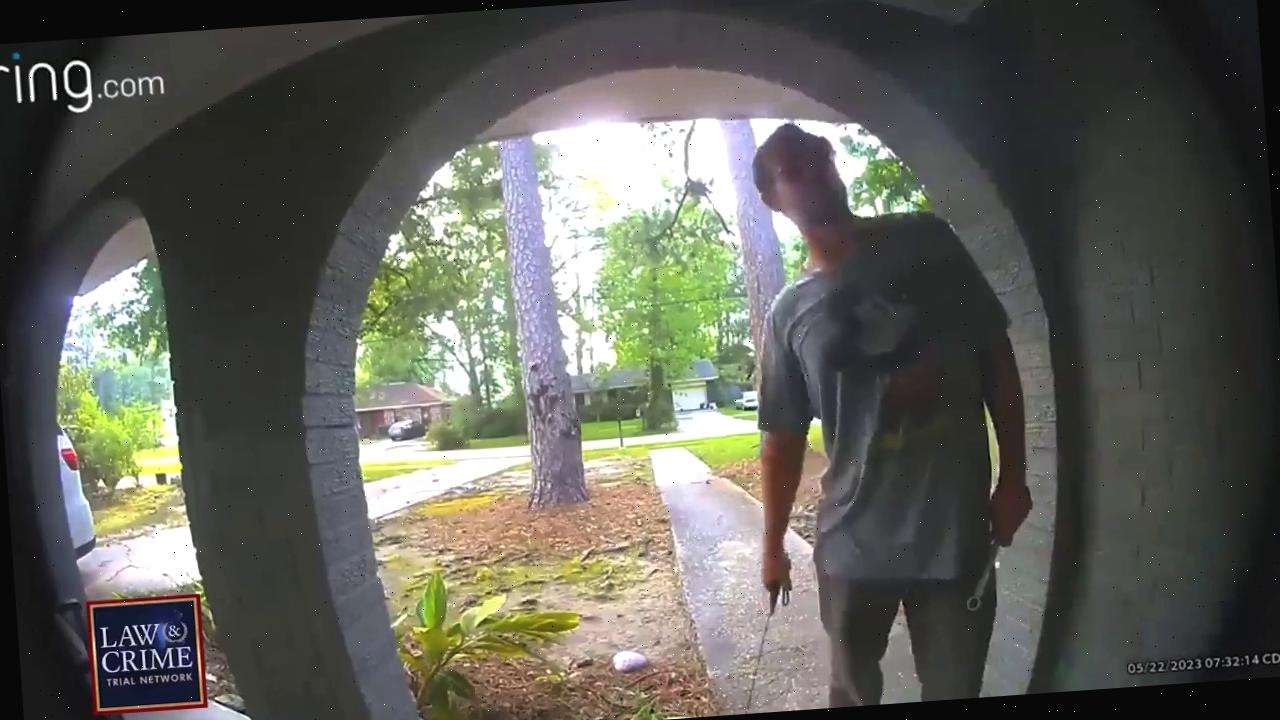suspicion: (669, 95, 1024, 716), (722, 534, 832, 712)
